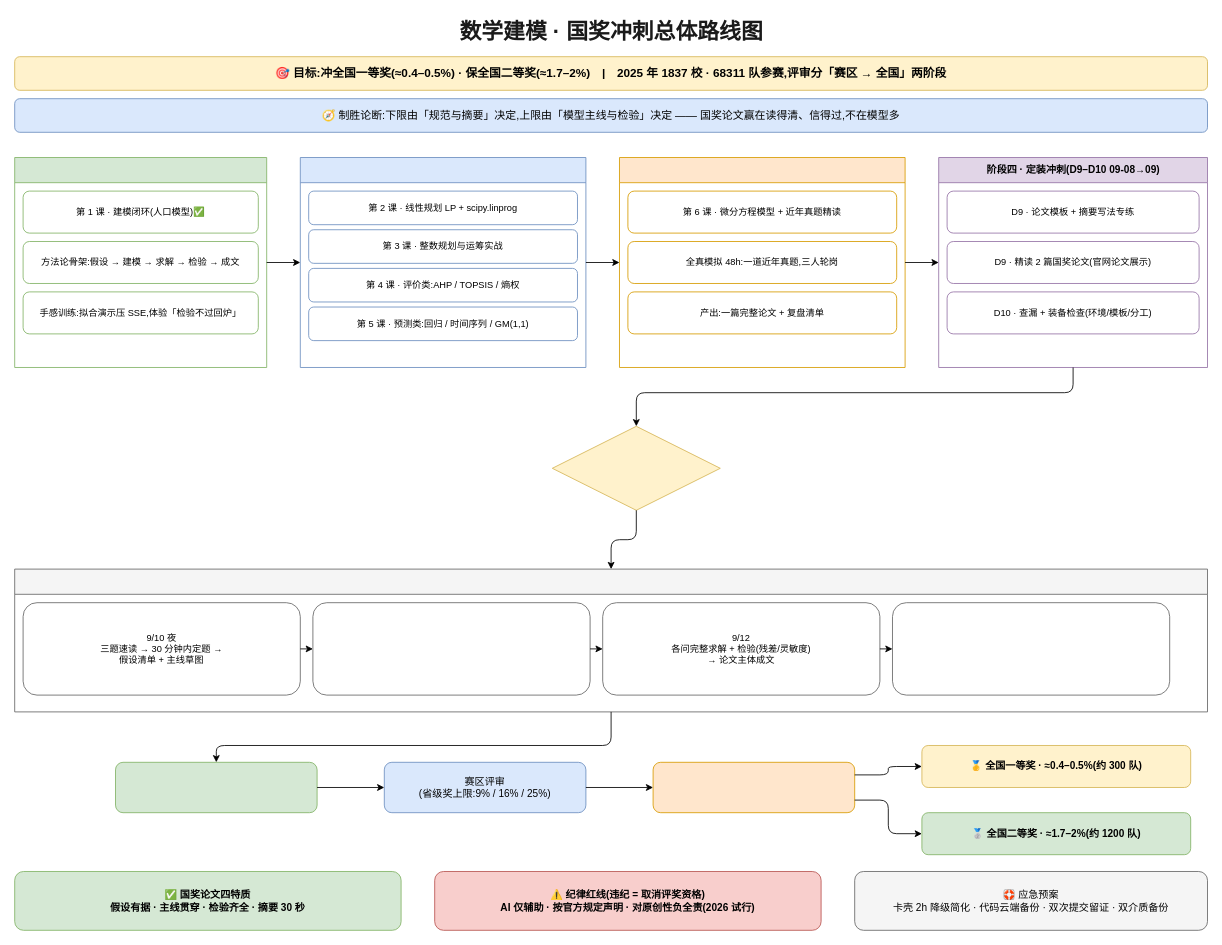
This 1222x945 diagram has some shape labels left out. Each missing label, with the box of its shape:
74 小时作战手册(9/10 18:00 → 9/13 20:00): (14, 568, 1208, 712)
9/11 模型 v1 → 编程求解 → 初版图表;写作手同步成文: (312, 602, 590, 695)
9/13 图表排版 → 14:00 正文定稿 → 最后 2h 专攻摘要 → 19:00 前双次提交: (892, 602, 1170, 695)
交付论文 PDF: (115, 761, 317, 813)
全国评审: (652, 761, 855, 813)
阶段一 · 筑基闭环(D1 08-31): (14, 157, 267, 368)
阶段三 · 真题实战(D6–D8 09-05→07): (619, 157, 905, 368)
阶段二 · 高频模型族(D2–D5 09-01→04): (299, 157, 586, 368)
🚩 09-10 18:00 开赛: (551, 425, 720, 510)
